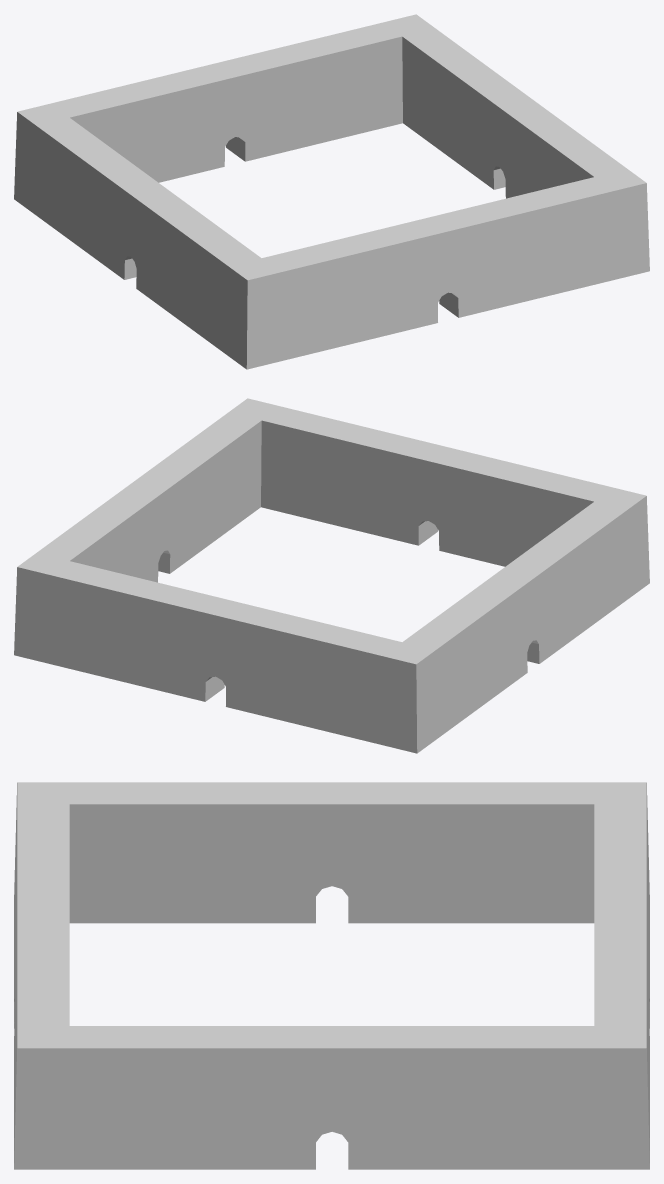
File: City01.glb
3 views of the same model, one above another, from view 1: azimuth 30°, elevation 25°; view 2: azimuth 150°, elevation 25°; view 3: azimuth 270°, elevation 25° (orthographic). The views are drawn at different scales.
Parts seen in each view (by area): view 1: City; view 2: City; view 3: City.
Boxes of the visible parts, box(x1,y1,x2,y2) form: City: box(14, 14, 649, 369); City: box(14, 398, 649, 753); City: box(14, 782, 649, 1169).
Bounding box in the file's own units: 2.4 × 0.5 × 2.4.
1 material, 1 textured.
